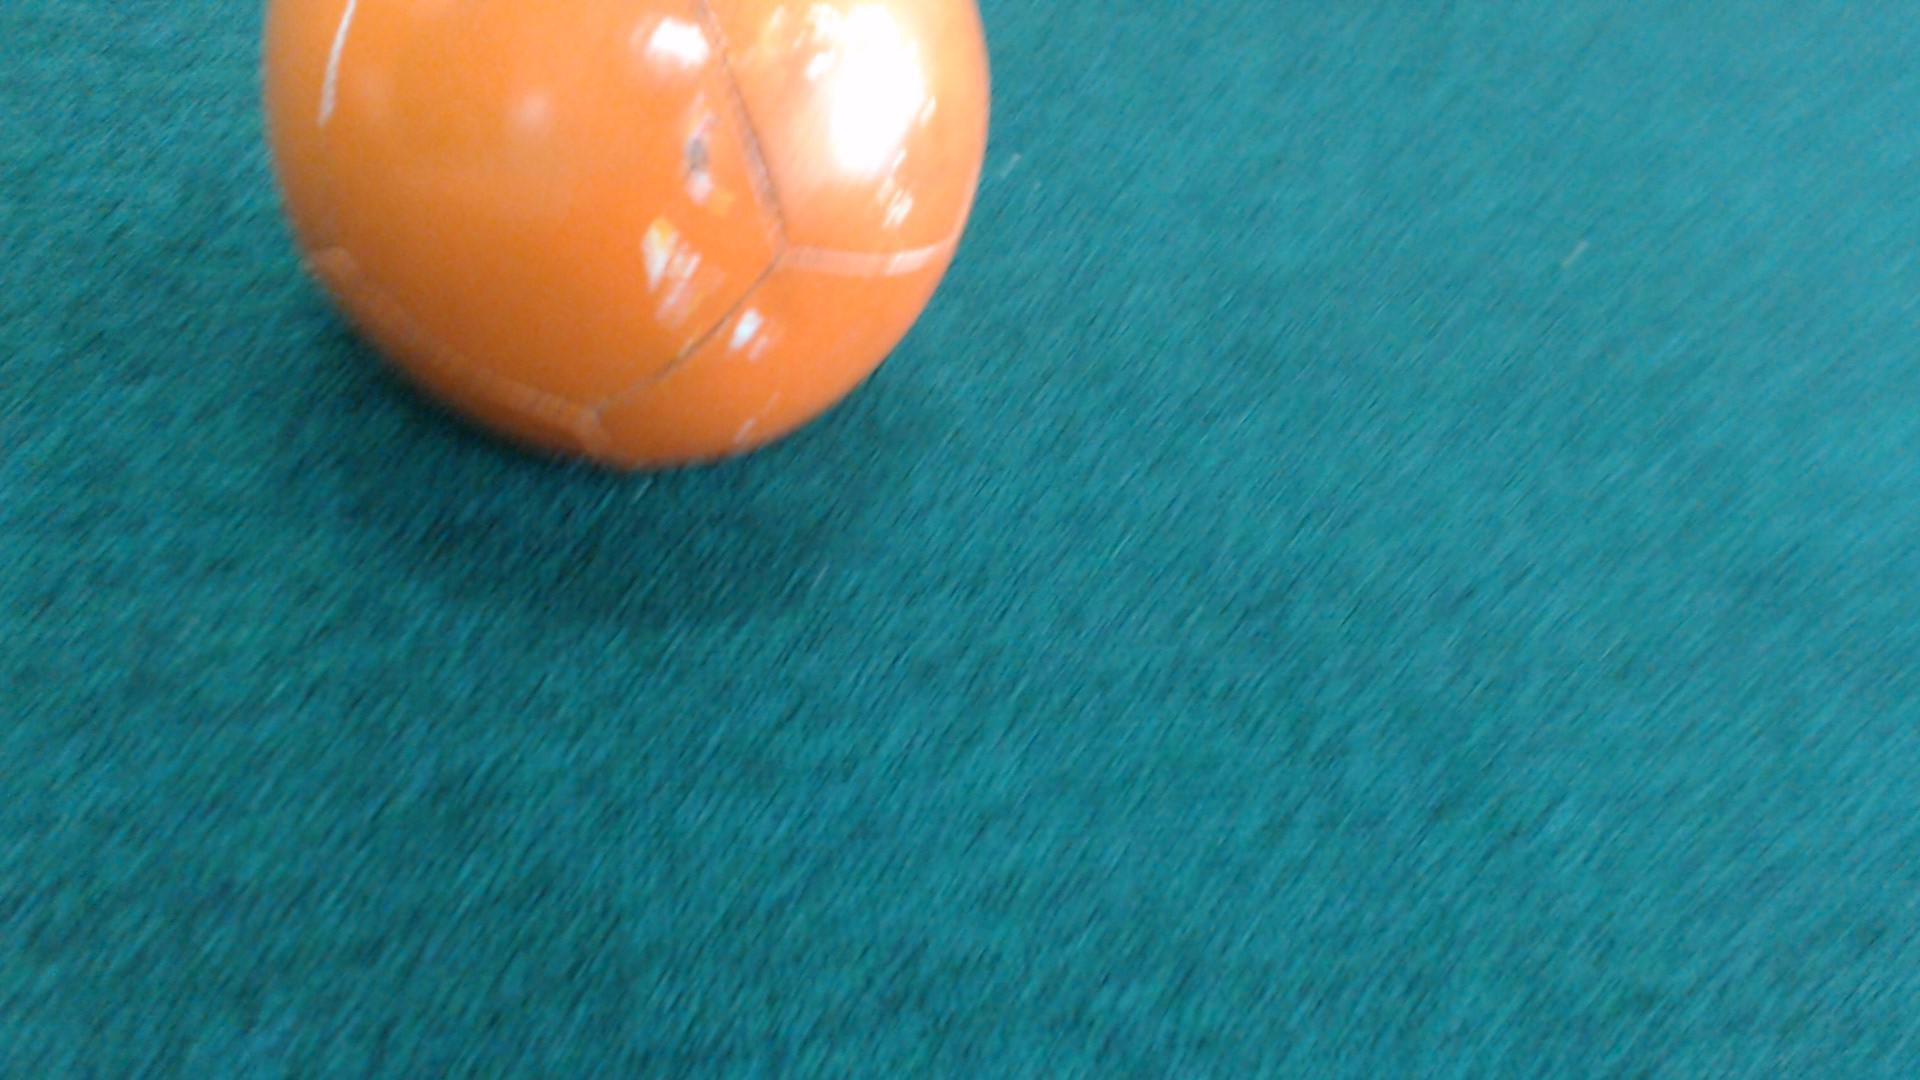bola: (237, 0, 1040, 524)
